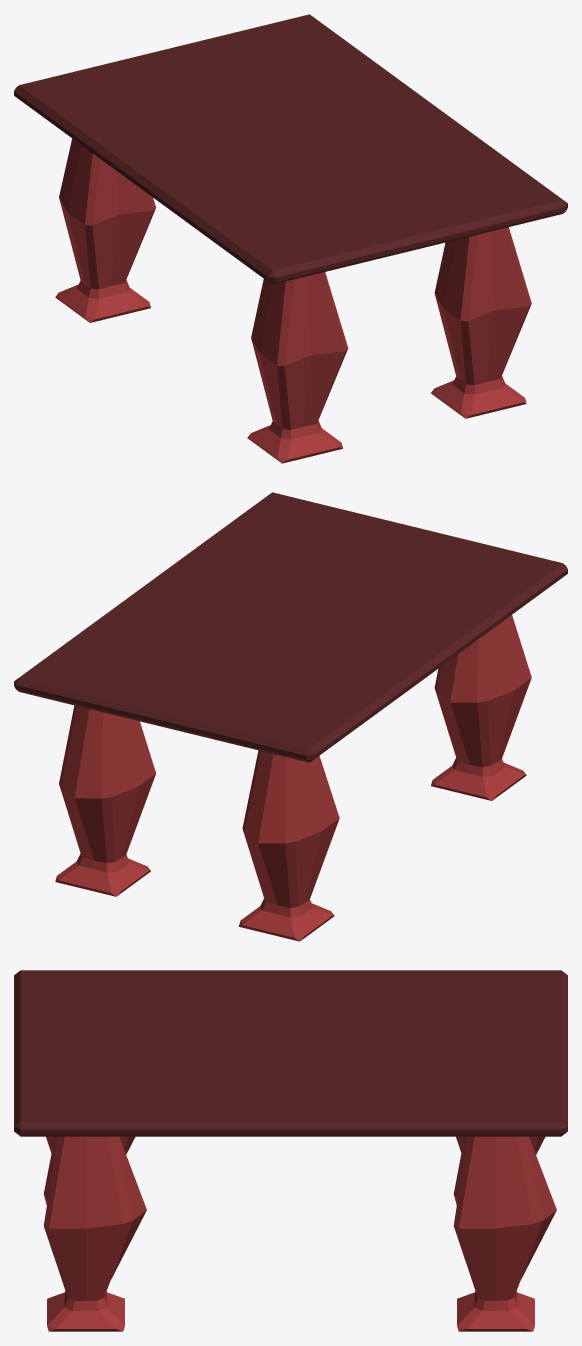
Rendered from MeetingTable.fbx.
The picture shows the model from 3 angles, top to bottom: view 1: azimuth 30°, elevation 25°; view 2: azimuth 150°, elevation 25°; view 3: azimuth 270°, elevation 25°; orthographic projection. The views are drawn at different scales.
Visible parts, largest first — view 1: Table; view 2: Table; view 3: Table.
Part boxes in pixels (x1,y1,x2,y2): Table: (14, 14, 567, 463); Table: (14, 492, 567, 941); Table: (14, 970, 567, 1331).
Bounding box in the file's own units: 111 × 73.51 × 166.
